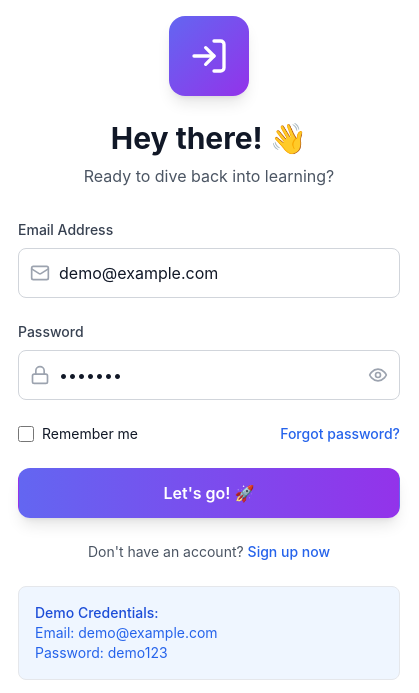
Scenario: LoginForm › validates required fields
The image size is (419, 693).
Note: Clear both fields
Clear the field showing "demo@example.com" at [209, 273], box 18,248 -> 400,298
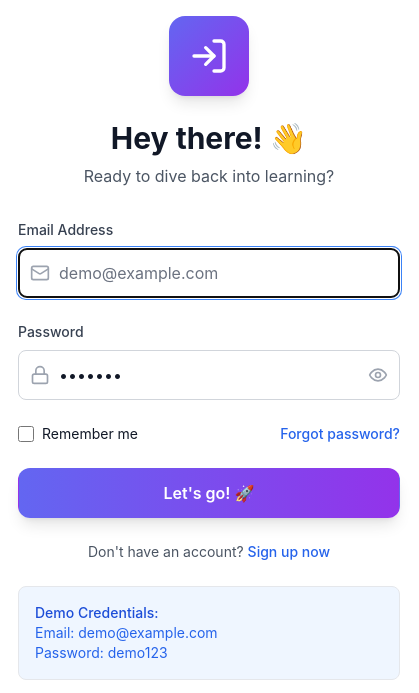
Clear the password field showing "demo123" at [209, 375], box 18,350 -> 400,400
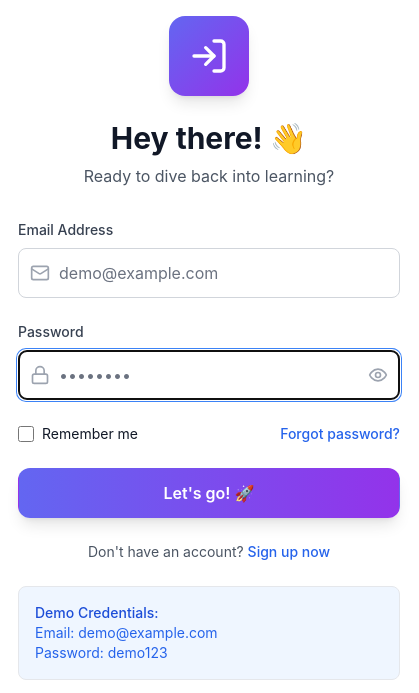
Click the button "Let's go! 🚀" at [209, 493], box 18,468 -> 400,518
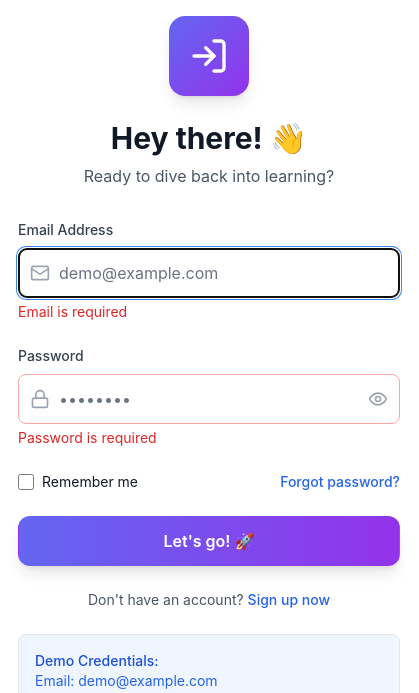
Expected: the text "Email is required" is shown, 18,303 -> 127,320
Expected: the text "Password is required" is shown, 18,429 -> 157,446
